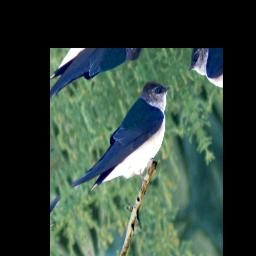Swallow: (60, 67, 194, 236)
